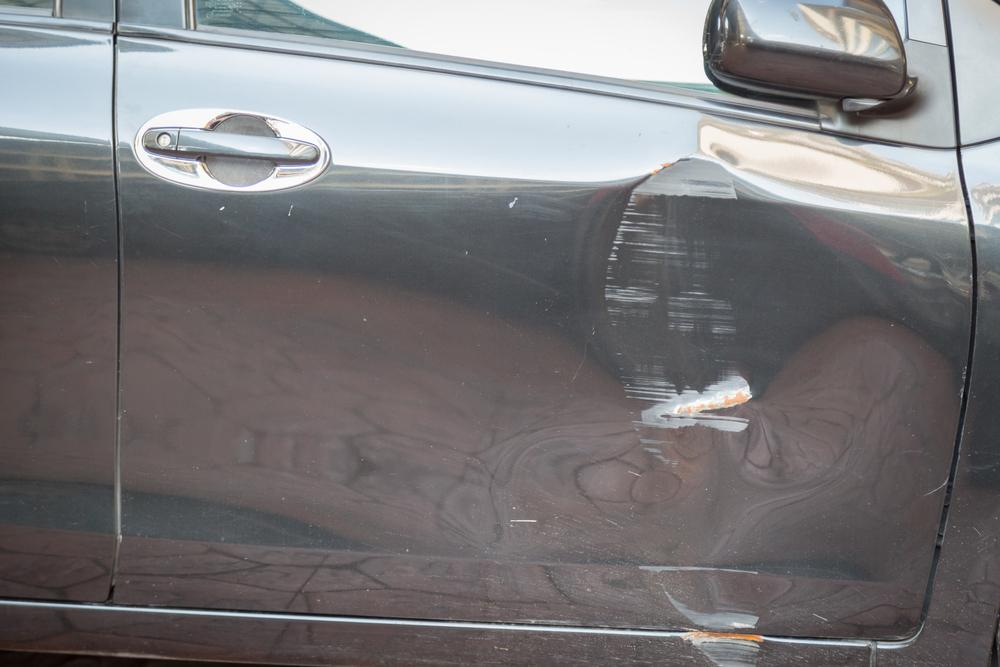dent: (551, 114, 933, 631)
scratch: (606, 154, 744, 471), (682, 625, 765, 667)
